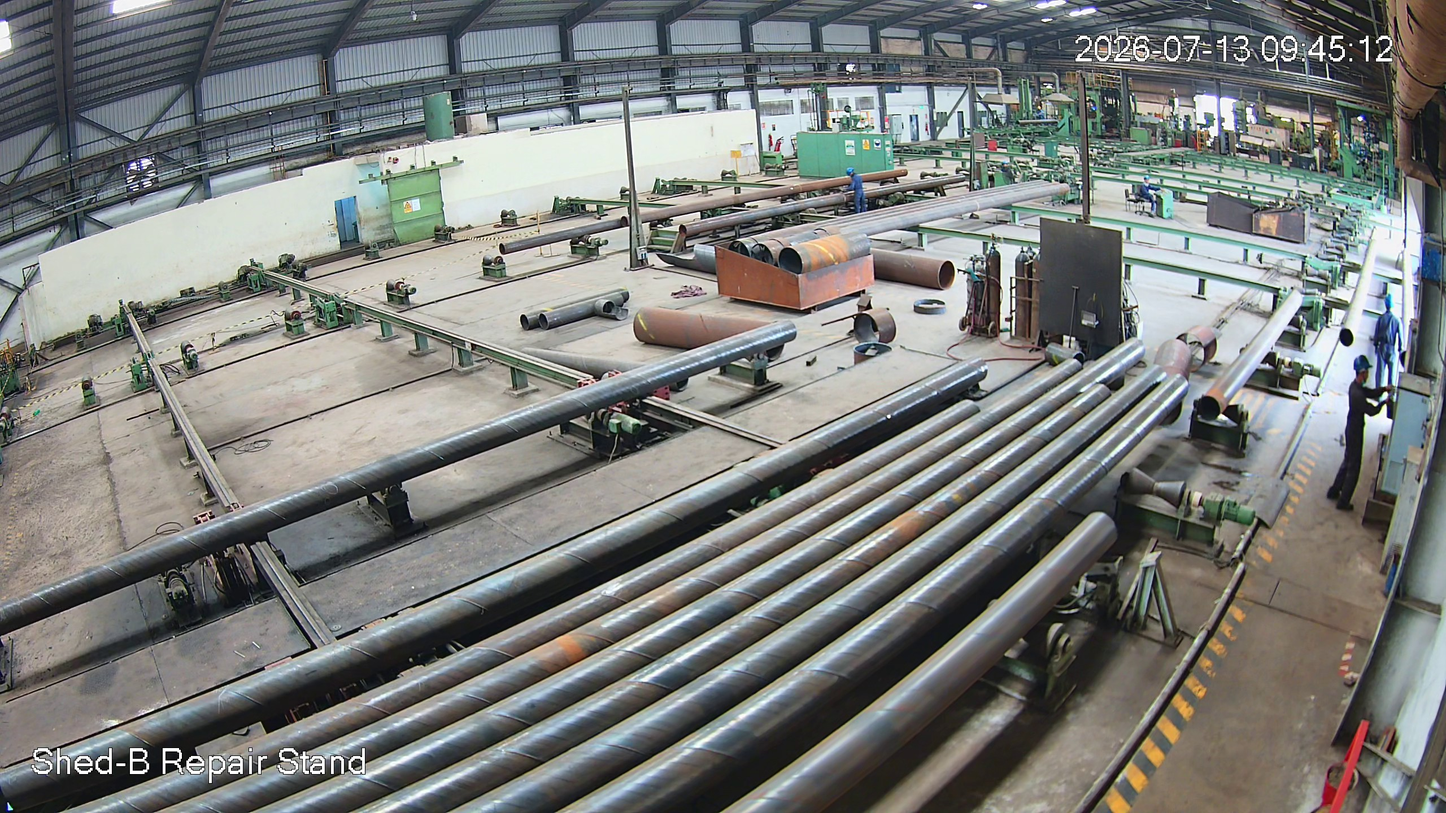Helmet: (1346, 349, 1376, 388), (1379, 290, 1399, 317), (844, 164, 856, 179)
Person: (1330, 353, 1375, 519), (1374, 294, 1407, 395), (844, 166, 866, 215)
